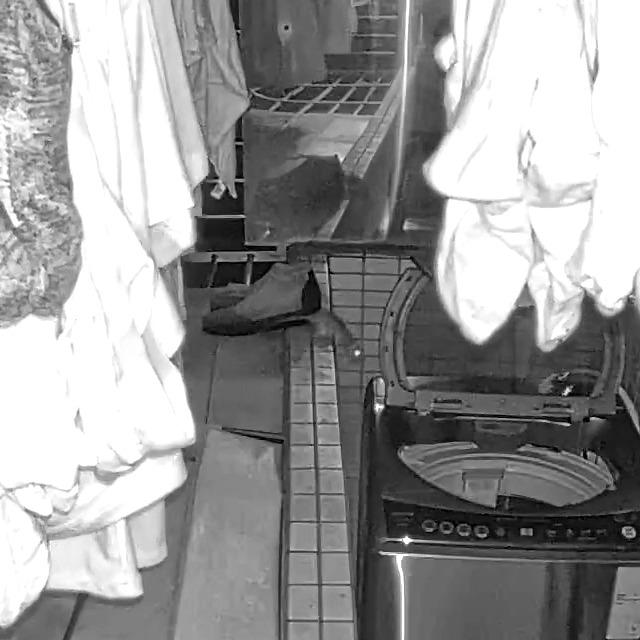rat: (256, 308, 367, 368)
